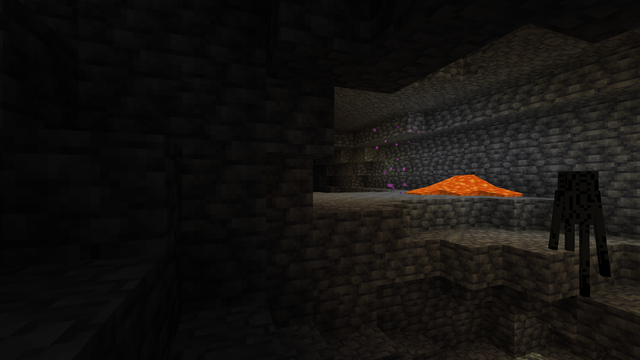endermens: (552, 166, 601, 302)
